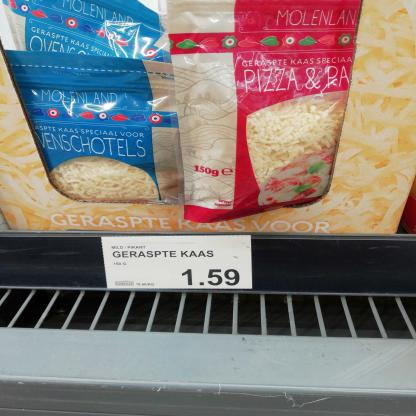prtg: (102, 236, 253, 290)
